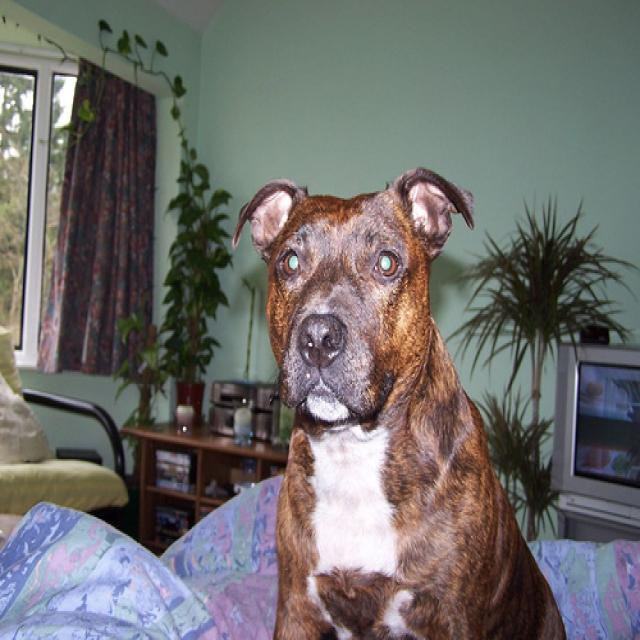dog-staffordshire_bull_terrier: (215, 152, 581, 637)
